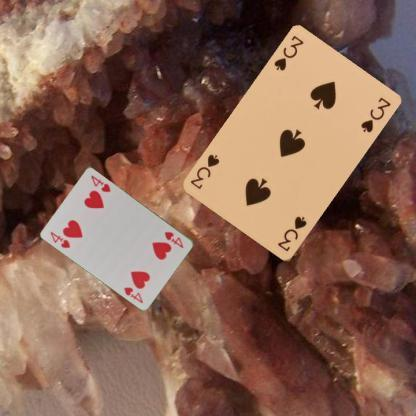3s: (271, 33, 305, 73), (275, 213, 308, 254)
4h: (48, 228, 72, 249), (162, 228, 185, 249)
